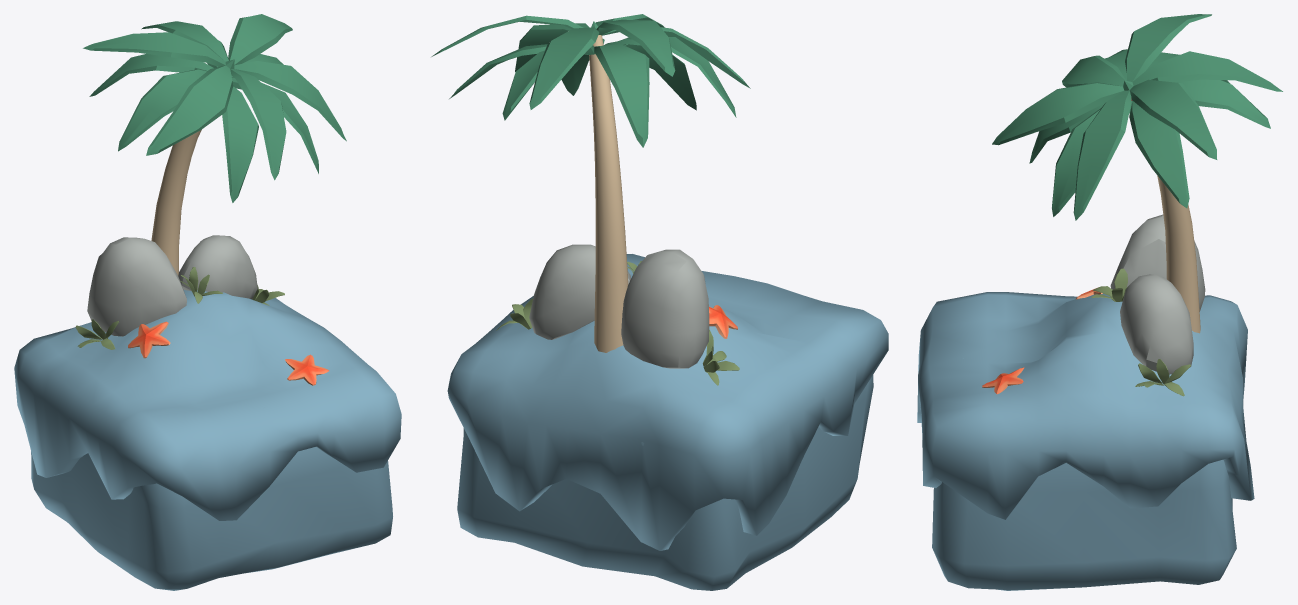
The model's file is ice_inside.fbx.
The picture shows the model from 3 angles, left to right: view 1: azimuth 30°, elevation 25°; view 2: azimuth 150°, elevation 25°; view 3: azimuth 270°, elevation 25°; orthographic projection. The views are drawn at different scales.
Visible parts, largest first — view 1: 얼음1바닥.002, Cube.004; view 2: 얼음1바닥.002, Cube.004; view 3: 얼음1바닥.002, Cube.004.
Part boxes in pixels (box(x1,y1,x2,y2)): 얼음1바닥.002: box(14, 290, 401, 590); Cube.004: box(75, 14, 346, 385); 얼음1바닥.002: box(447, 254, 888, 590); Cube.004: box(431, 14, 750, 385); 얼음1바닥.002: box(917, 292, 1254, 590); Cube.004: box(982, 14, 1282, 396).
Size of the model in its own units: 225 by 367 by 240.
